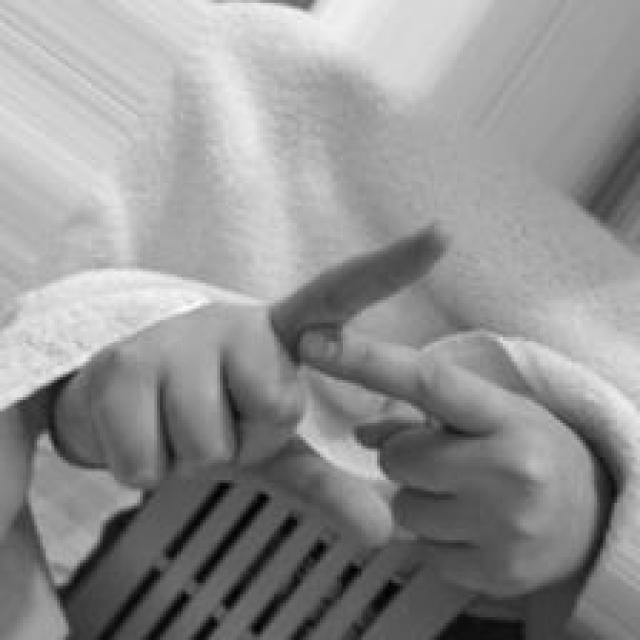J: (55, 217, 640, 605)
